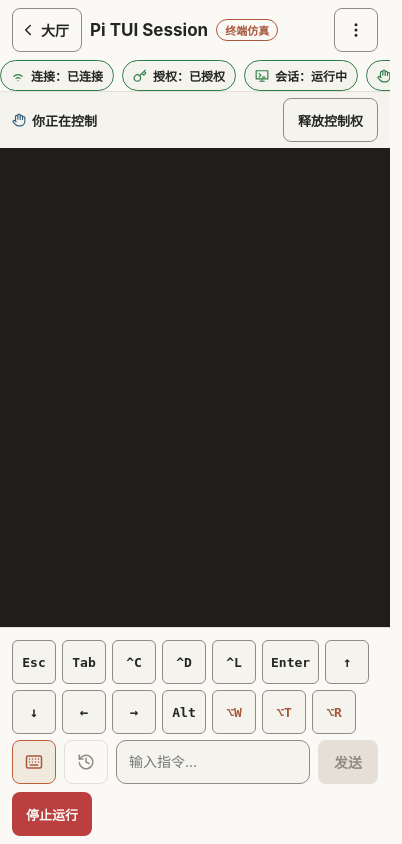
it: WorkspacePage Web会话平面集成（C2/C4） › webui unavailable 时，菜单隐藏 Web 平面入口
Click the button with class "menu-btn". click: (356, 30)
box: [334, 8, 378, 52]
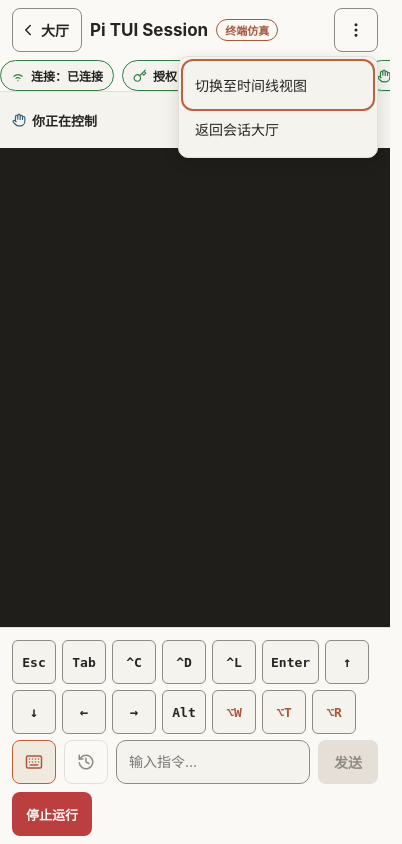
Now the menu item with class "menu-item" reads "切换至时间线视图", box [185, 63, 371, 107]
